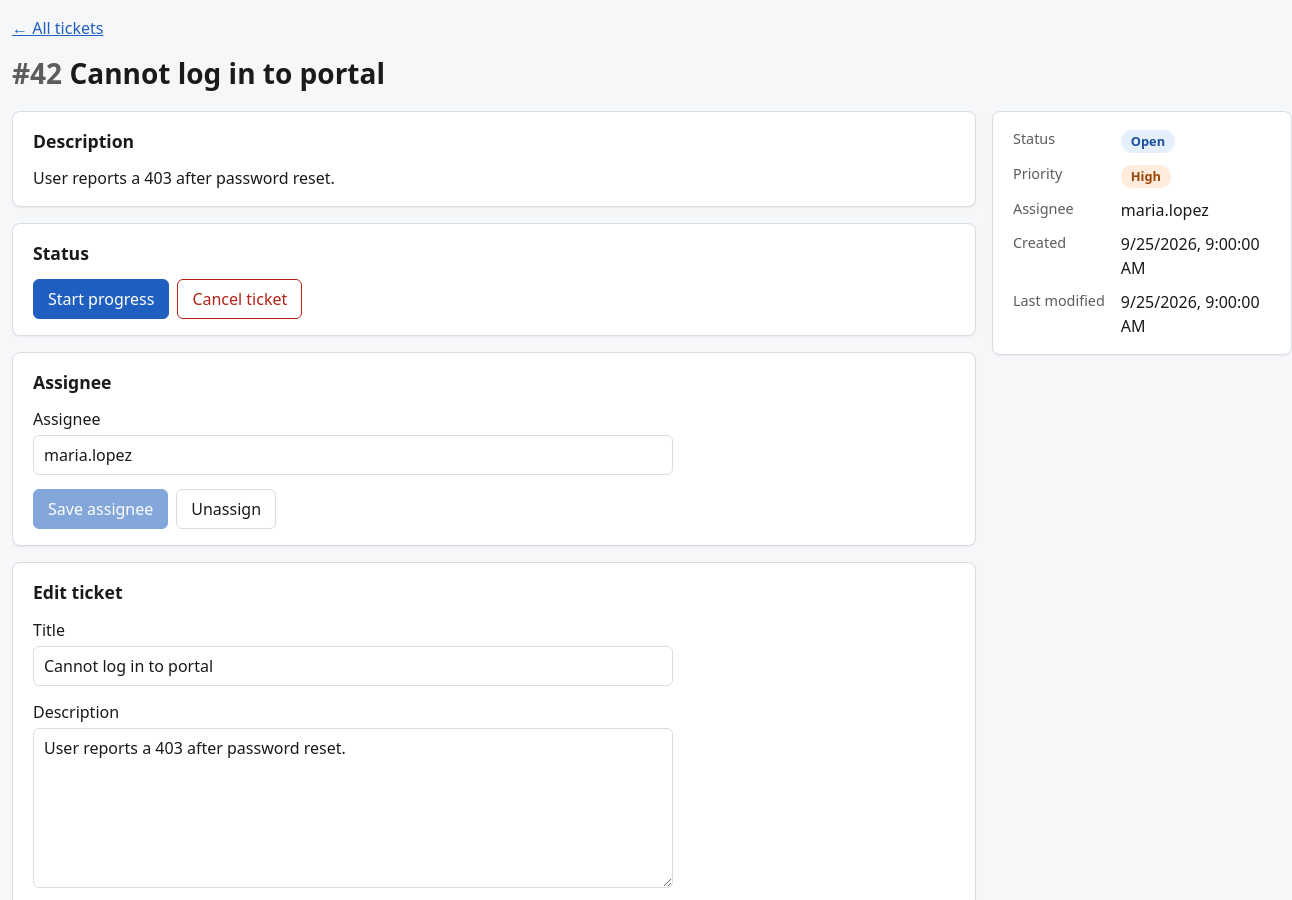
assignee (REQ-4, TS-FE-10) › unassigns by sending assignee null
Click the button "Unassign" at [226, 509], box [176, 489, 276, 529]
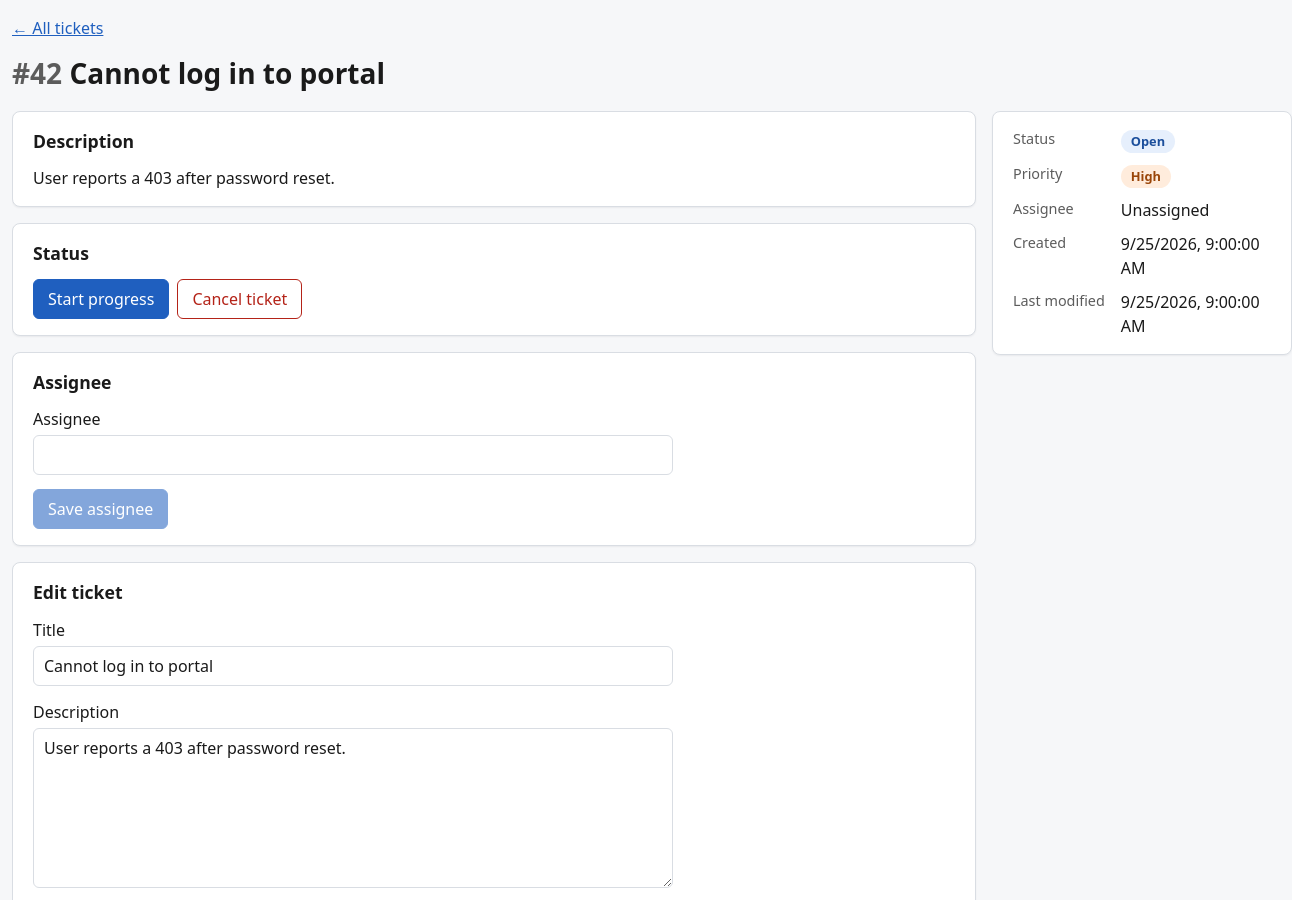
Check: the text "Unassigned" is shown, box [1121, 199, 1209, 221]
